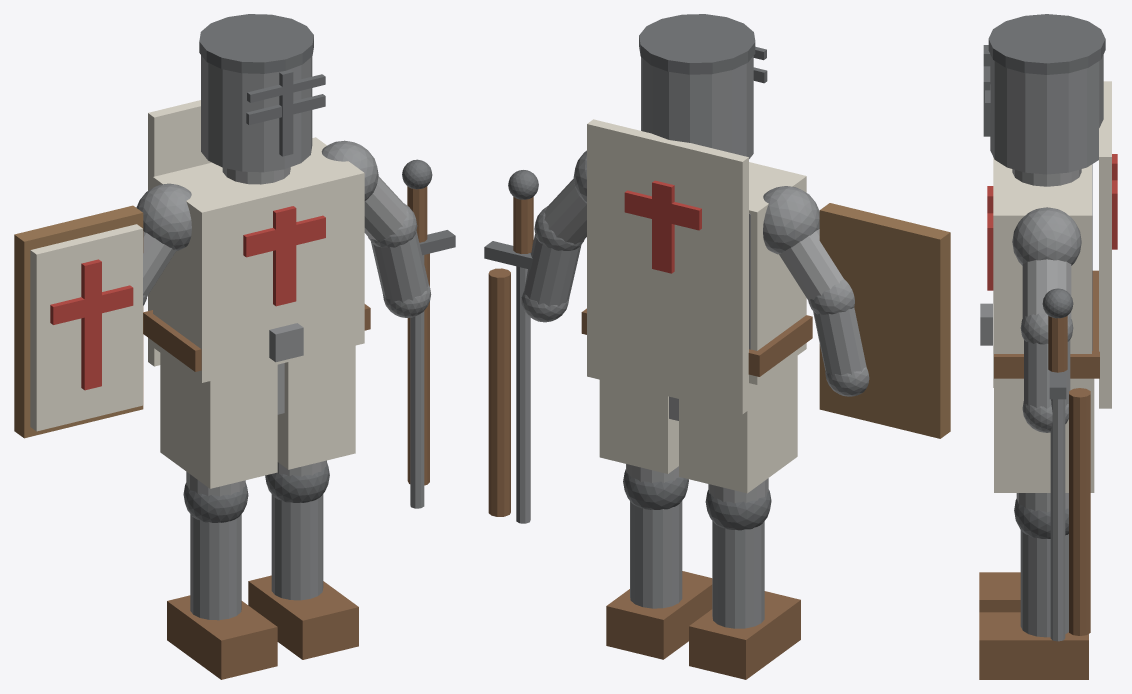
File: templar_knight_v2.glb
3 views of the same model, side by side, from view 1: azimuth 30°, elevation 25°; view 2: azimuth 150°, elevation 25°; view 3: azimuth 270°, elevation 25° (orthographic).
Visible parts, largest first — view 1: SURCOAT_FRONT_BACK, SHIELD_IVORY_FACE, TABARD_L, GREAT_HELM_BODY, TABARD_R, PROP_SHIELD, BOOT_L, GREAT_HELM_TOP, BOOT_R, SHIN_ARMOR_R, SHIN_ARMOR_L, CLOAK (+24 smaller); view 2: CLOAK, PROP_SHIELD, TABARD_L, GREAT_HELM_BODY, SURCOAT_FRONT_BACK, TABARD_R, BOOT_L, GREAT_HELM_TOP, SCABBARD, BOOT_R, SHIN_ARMOR_R, SHIN_ARMOR_L (+19 smaller); view 3: GREAT_HELM_BODY, SURCOAT_FRONT_BACK, GREAT_HELM_TOP, BOOT_R, TABARD_R, SCABBARD, CLOAK, PROP_SWORD_BLADE, SHIN_ARMOR_R, SHOULDER_R, UPPER_ARM_MAIL_R, BELT (+15 smaller).
Part boxes in pixels (bbox=[...]): SURCOAT_FRONT_BACK: bbox=[153, 137, 364, 382]; SHIELD_IVORY_FACE: bbox=[30, 224, 142, 431]; TABARD_L: bbox=[160, 353, 277, 488]; GREAT_HELM_BODY: bbox=[201, 55, 312, 172]; TABARD_R: bbox=[277, 345, 355, 469]; PROP_SHIELD: bbox=[14, 205, 143, 438]; BOOT_L: bbox=[167, 595, 277, 679]; GREAT_HELM_TOP: bbox=[199, 14, 313, 73]; BOOT_R: bbox=[248, 575, 358, 659]; SHIN_ARMOR_R: bbox=[271, 494, 323, 600]; SHIN_ARMOR_L: bbox=[190, 514, 241, 620]; CLOAK: bbox=[148, 100, 211, 366]; CLOAK: bbox=[587, 119, 748, 414]; PROP_SHIELD: bbox=[819, 203, 950, 438]; TABARD_L: bbox=[679, 356, 797, 493]; GREAT_HELM_BODY: bbox=[641, 56, 753, 158]; SURCOAT_FRONT_BACK: bbox=[749, 162, 806, 384]; TABARD_R: bbox=[599, 380, 678, 473]; BOOT_L: bbox=[689, 591, 800, 679]; GREAT_HELM_TOP: bbox=[639, 14, 755, 74]; SCABBARD: bbox=[488, 268, 510, 516]; BOOT_R: bbox=[606, 571, 712, 659]; SHIN_ARMOR_R: bbox=[630, 501, 682, 608]; SHIN_ARMOR_L: bbox=[712, 521, 764, 628]; GREAT_HELM_BODY: bbox=[990, 55, 1103, 174]; SURCOAT_FRONT_BACK: bbox=[993, 157, 1091, 387]; GREAT_HELM_TOP: bbox=[988, 14, 1105, 74]; BOOT_R: bbox=[979, 612, 1088, 679]; TABARD_R: bbox=[994, 378, 1094, 492]; SCABBARD: bbox=[1069, 388, 1090, 635]; CLOAK: bbox=[1099, 81, 1111, 408]; PROP_SWORD_BLADE: bbox=[1050, 399, 1065, 641]; SHIN_ARMOR_R: bbox=[1020, 530, 1068, 637]; SHOULDER_R: bbox=[1012, 207, 1081, 265]; UPPER_ARM_MAIL_R: bbox=[1022, 259, 1071, 319]; BELT: bbox=[994, 270, 1099, 378].
Size of the model in its own units: 1.41 by 1.83 by 0.378.
